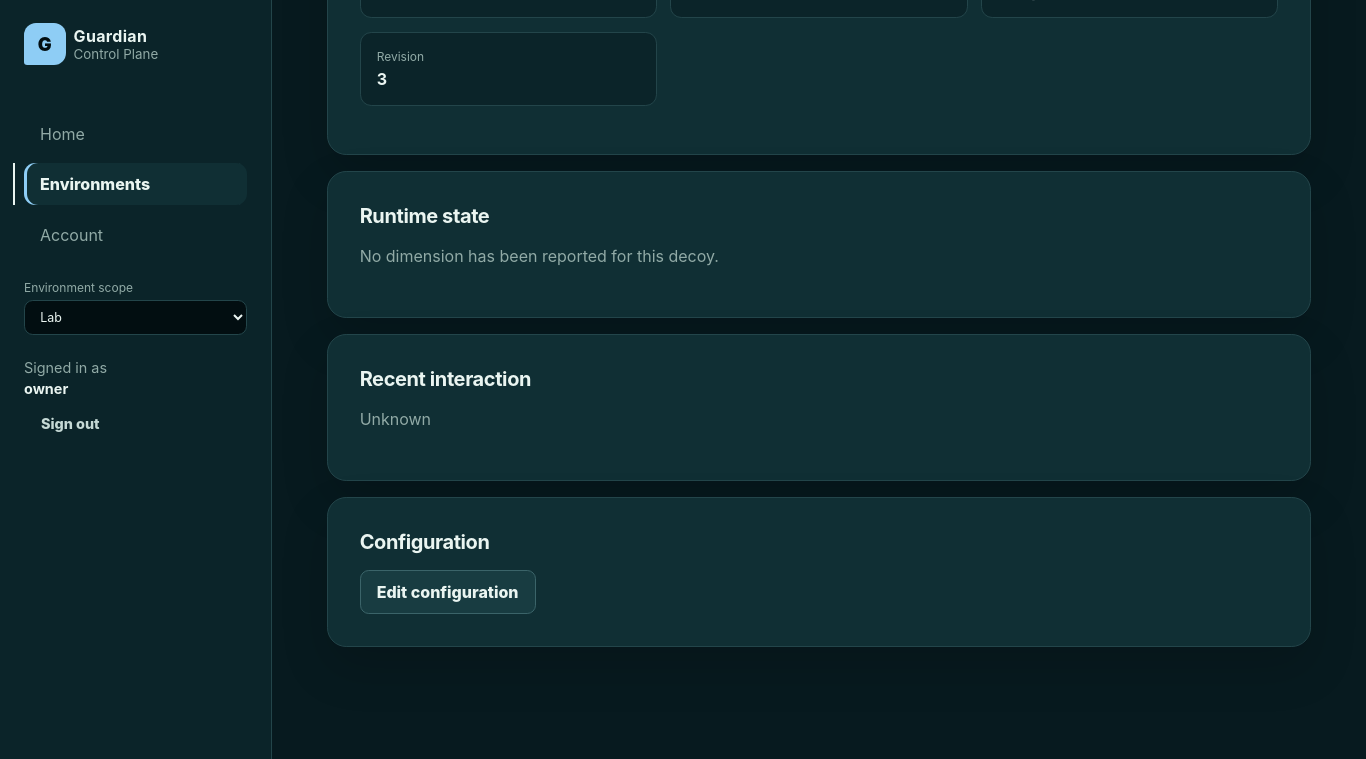
the decoy detail screen › says a saved configuration has not been applied yet
The image size is (1366, 759).
(page scrolled)
Step 1. Click the button "Edit configuration" → (448, 592), box [360,570,536,614]
(page scrolled)
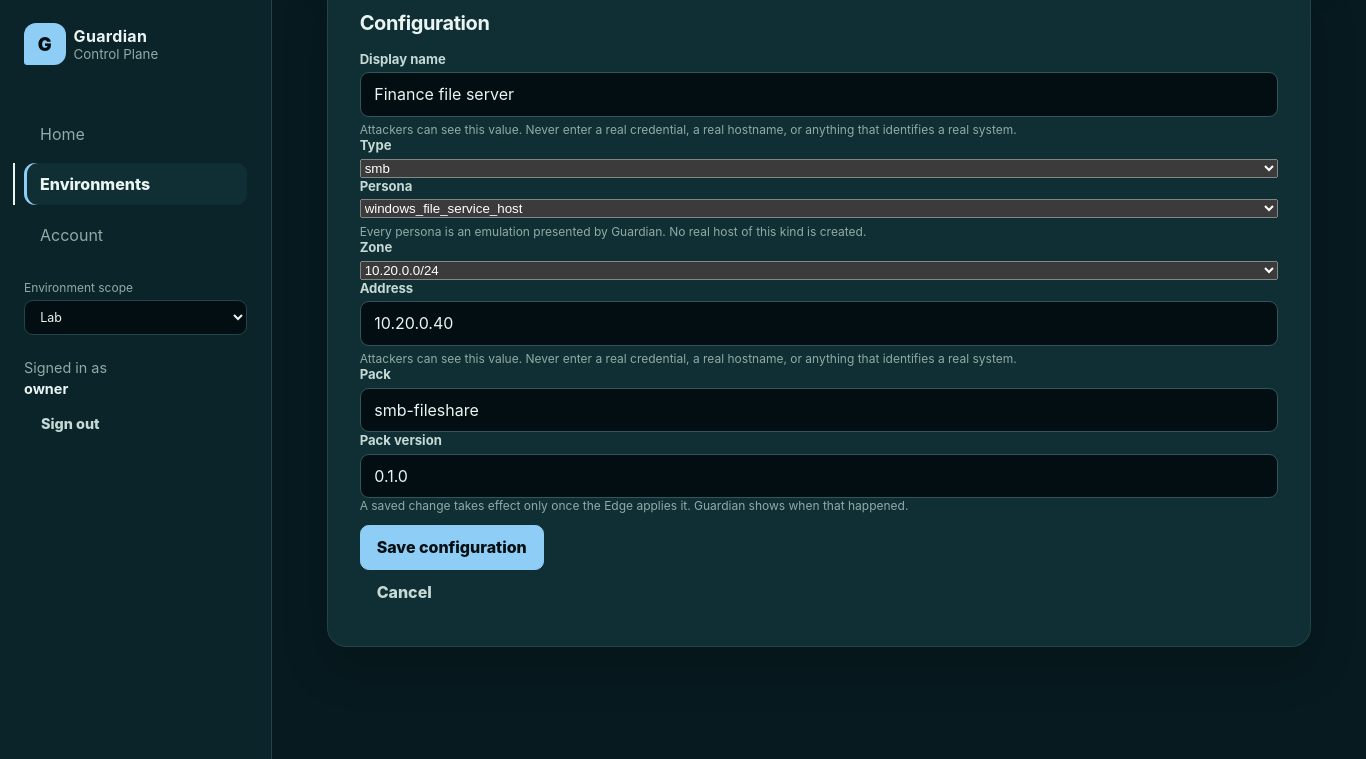
Step 2. Click the button "Save configuration" → (452, 547), box [360,525,544,570]
(page scrolled)
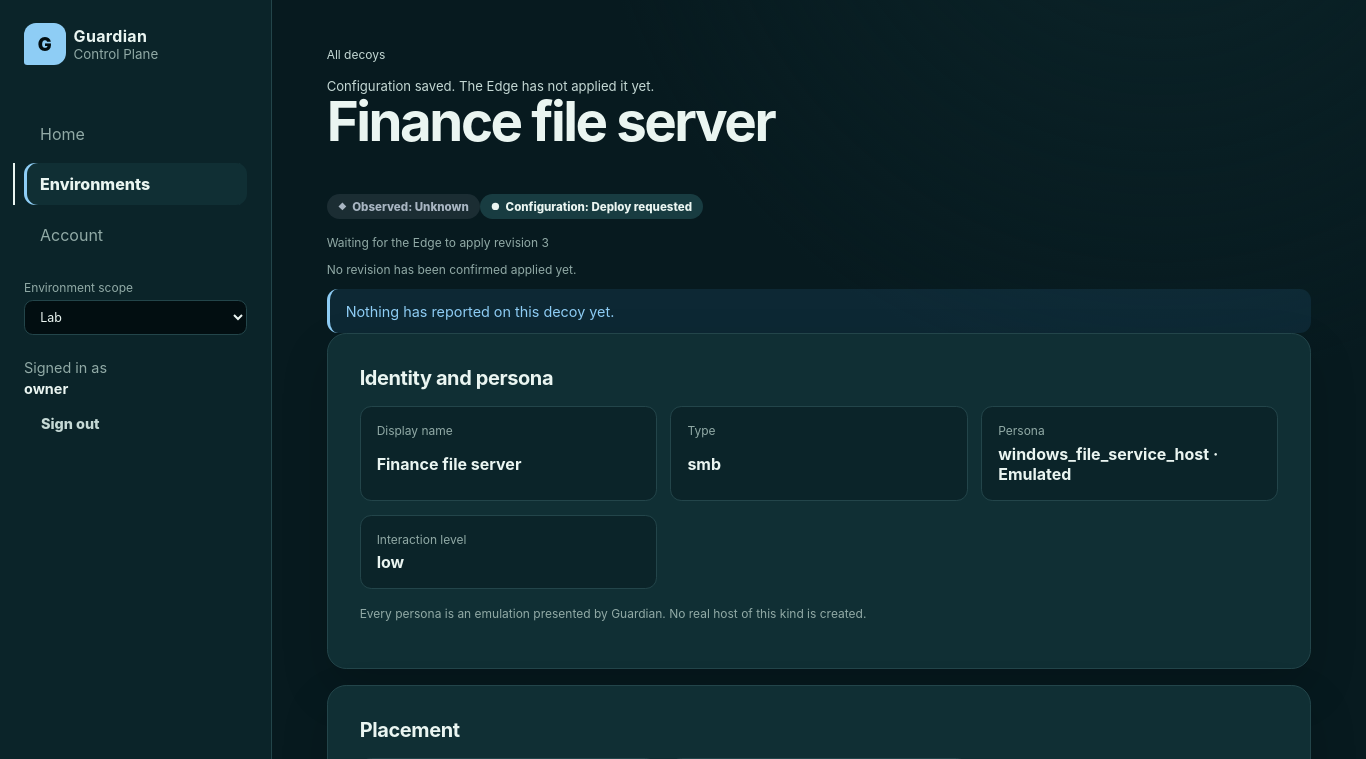
Result: the text "Configuration saved. The Edge has not applied it yet." is shown at [327,78,654,94]
